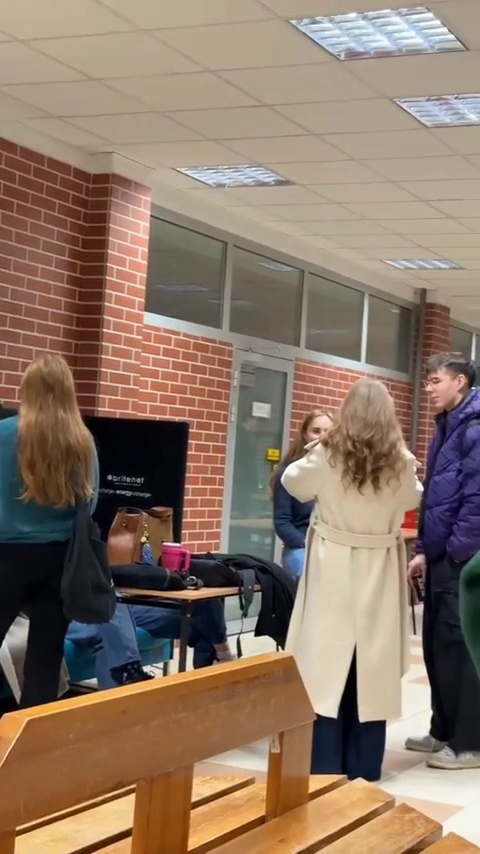no vest: (281, 370, 415, 731), (0, 346, 102, 707), (420, 350, 479, 730)
